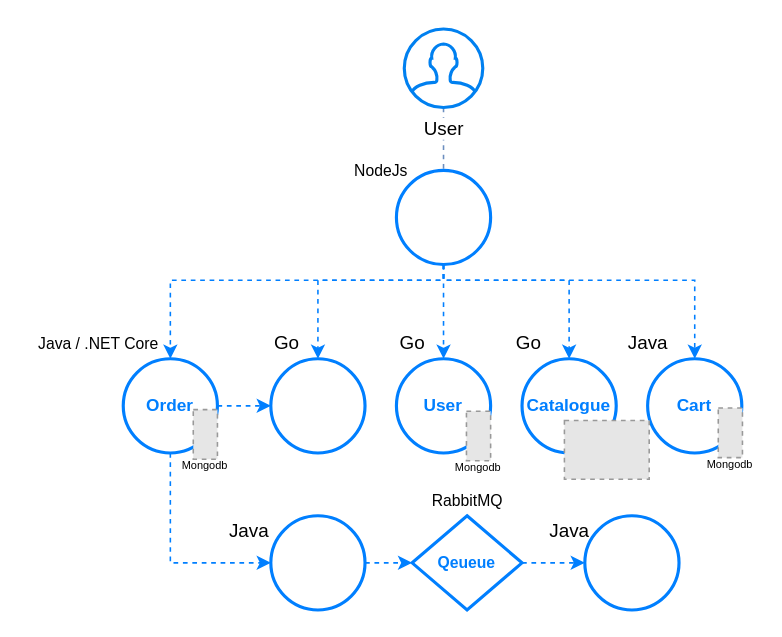
Some shapes in this 782 by 637 pixel diagram are drawn without their labels. Grey dashed boxes stand in for pictures. The shapes that lost their labels are listed below. From the top down, each one's centre as x and y in pixels, then its label:
At point 442,216: "Front-end".
At point 317,405: "Payment".
At point 317,562: "Shipping".
At point 631,562: "Queue-Master".
